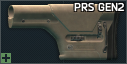Magpul PRS GEN2 stock Flat Dark Earth: (0, 0, 127, 64)
